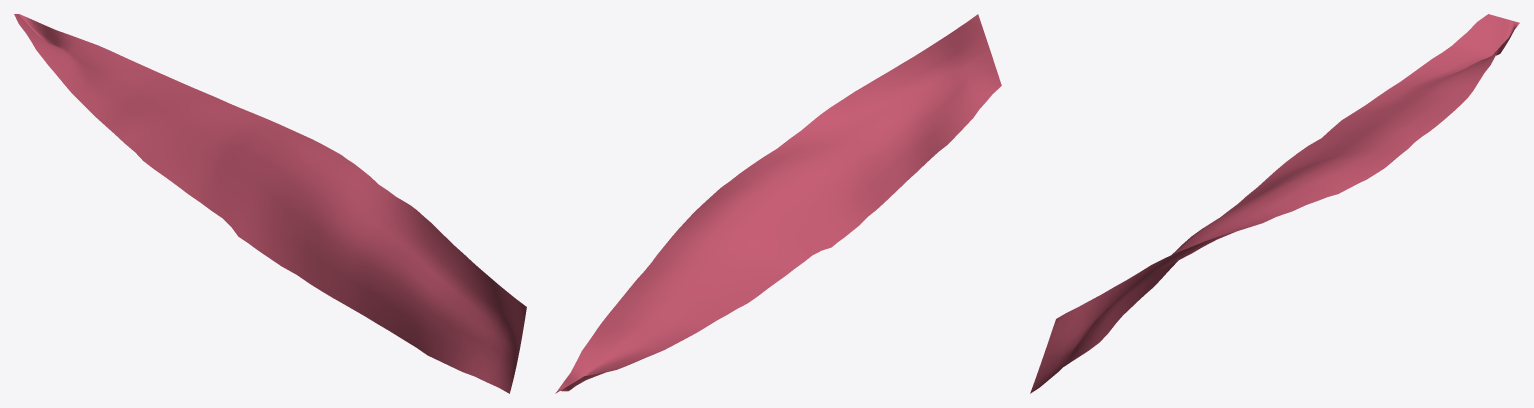
The picture shows the model from 3 angles, left to right: view 1: azimuth 30°, elevation 25°; view 2: azimuth 150°, elevation 25°; view 3: azimuth 330°, elevation 25°; orthographic projection. The views are drawn at different scales.
Parts seen in each view (by area): view 1: 左侧股外侧肌间隔; view 2: 左侧股外侧肌间隔; view 3: 左侧股外侧肌间隔.
Boxes of the visible parts, x1=… form: 左侧股外侧肌间隔: x1=14, y1=14, x2=526, y2=393; 左侧股外侧肌间隔: x1=555, y1=14, x2=1001, y2=393; 左侧股外侧肌间隔: x1=1030, y1=14, x2=1519, y2=393.
Size of the model in its own units: 0.0529 by 0.0391 by 0.3939.
